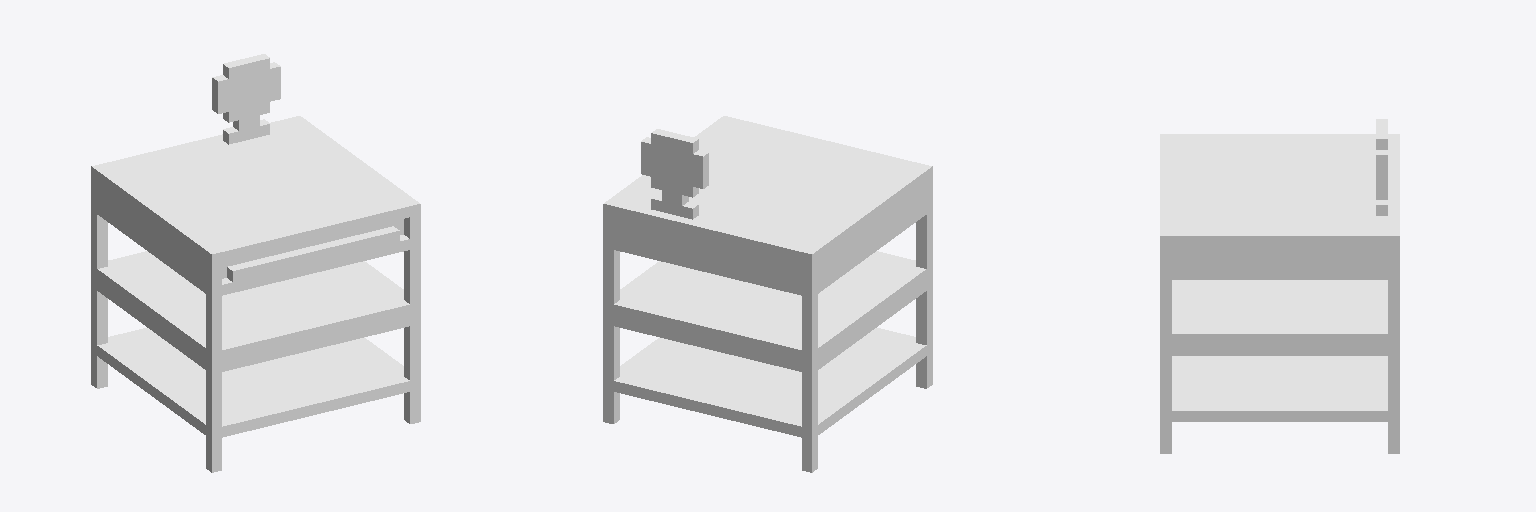
The model's file is BedTable2.obj.
3 renders of one model, left to right at view 1: azimuth 30°, elevation 25°; view 2: azimuth 150°, elevation 25°; view 3: azimuth 270°, elevation 25°, orthographic.
Parts seen in each view (by area): view 1: object 1; view 2: object 1; view 3: object 1.
Part boxes in pixels (bbox=[...]): object 1: bbox=[91, 54, 420, 472]; object 1: bbox=[603, 116, 932, 472]; object 1: bbox=[1160, 119, 1399, 453].
Bounding box in the file's own units: 2 × 2.7 × 2.